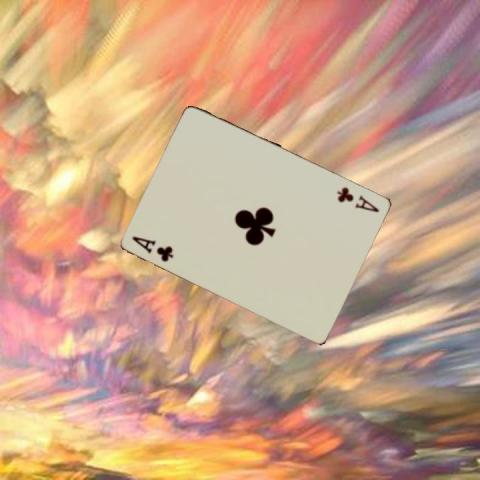Ac: (334, 183, 381, 214), (130, 233, 176, 263)
